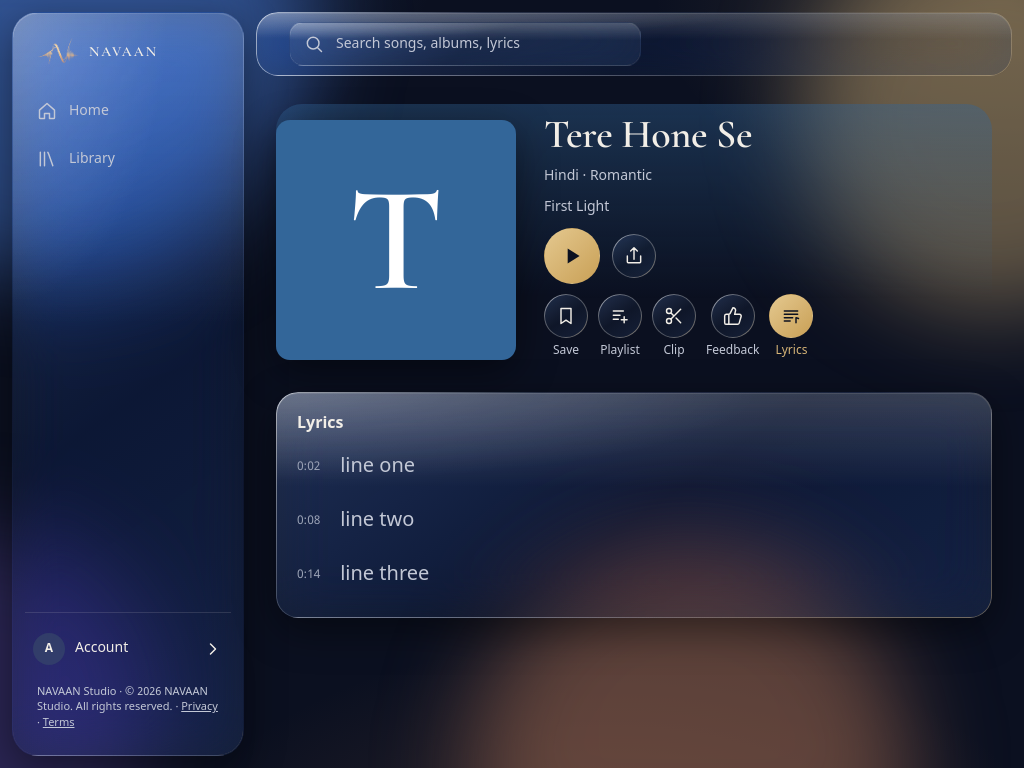
Test: a song for a listener › can be saved, added to a playlist and shared by a listener
This screenshot has width=1024, height=768.
Click the button named "Save song": (566, 316) [544, 294, 588, 338]
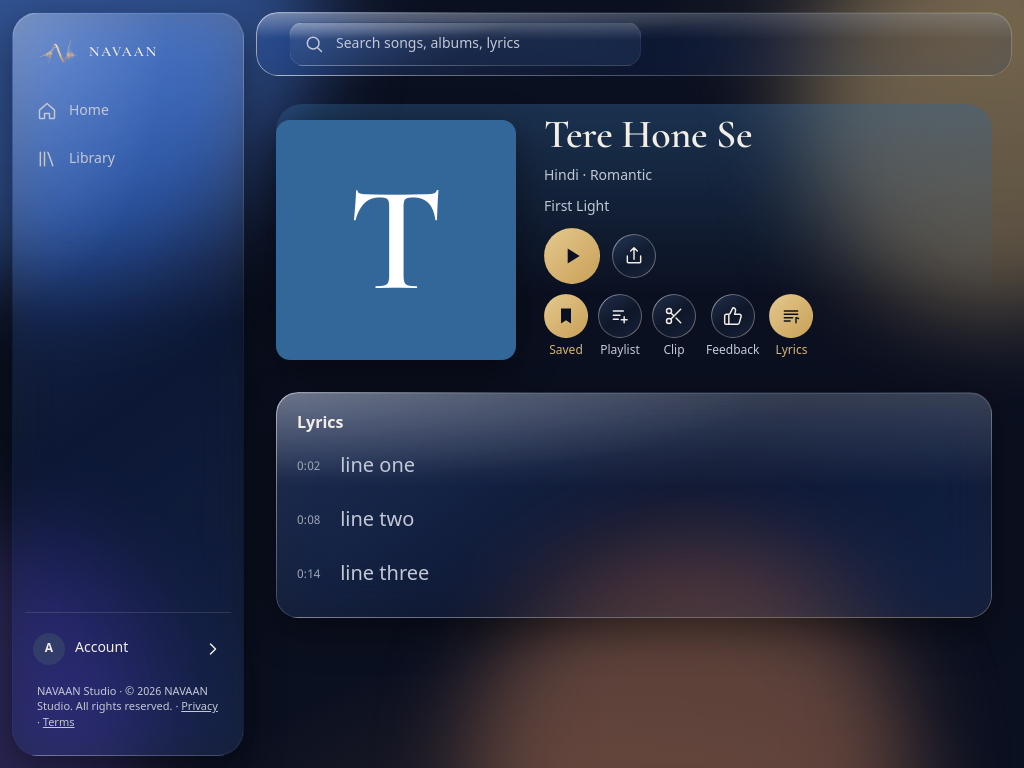
Expected: the button named "Saved" is shown, [544, 294, 588, 338]
Click the button named "Share": (634, 256) [612, 234, 656, 278]
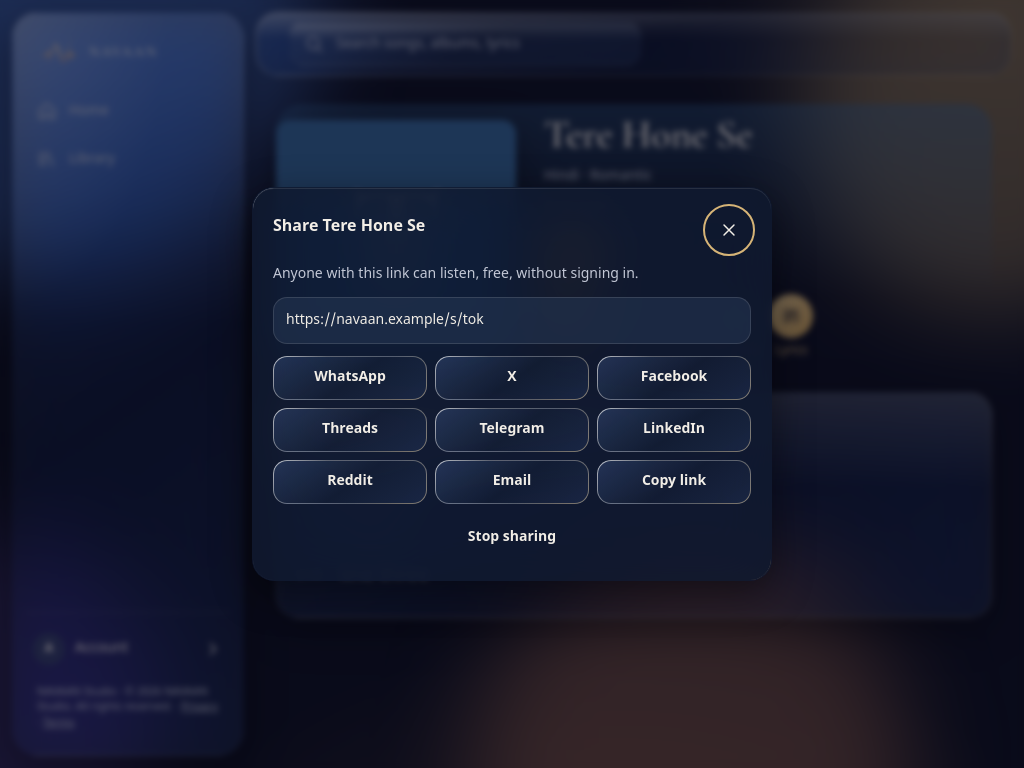
Expected: the field labelled "Anyone with this link can listen, free, without signing in." holds "https://navaan.example/s/tok", [273, 297, 751, 344]
Expected: the button "Copy link" is shown, [597, 460, 751, 504]
